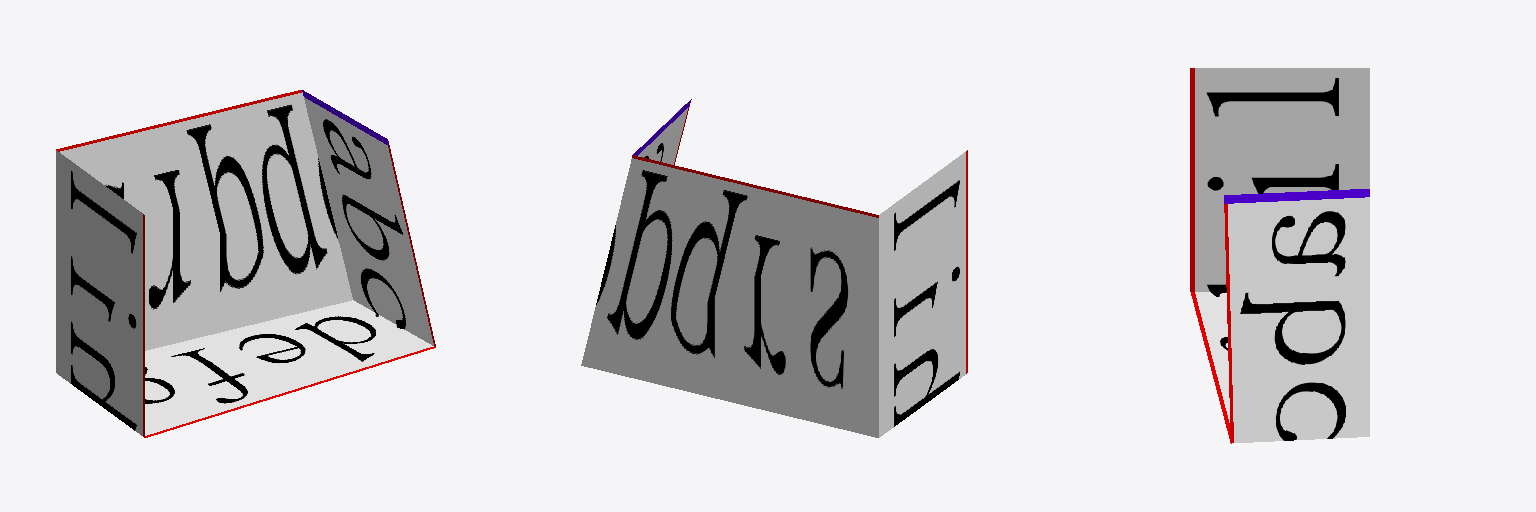
3 renders of one model, left to right at view 1: azimuth 30°, elevation 25°; view 2: azimuth 150°, elevation 25°; view 3: azimuth 270°, elevation 25°, orthographic.
Visible parts, largest first — view 1: Cube; view 2: Cube; view 3: Cube.
Part boxes in pixels (left/top/right/bottom): Cube: left=56, top=90, right=435, bottom=437; Cube: left=581, top=99, right=967, bottom=437; Cube: left=1190, top=68, right=1369, bottom=443.
Size of the model in its own units: 16.05 by 11 by 8.
Materials: 1 (1 with a texture image).